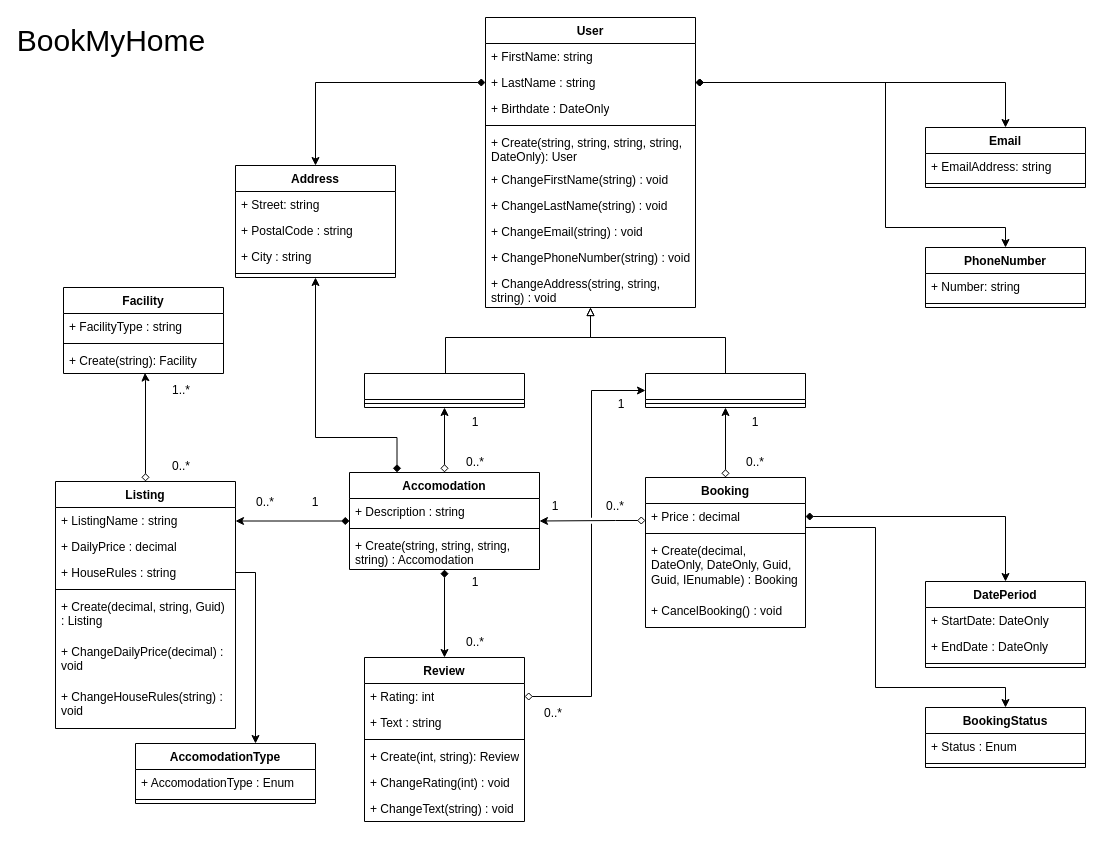
The diagram is 1103 pixels wide and 842 high, and some of its shapes have lost their labels. Here are the shapes that lost their labels. From the top down, the centre of each, then its label:
[444,390]: Host
[725,390]: Guest
